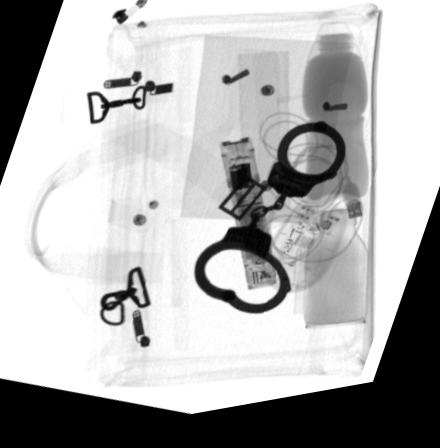Baton: (217, 144, 279, 300)
HandCuffs: (192, 131, 347, 323)
